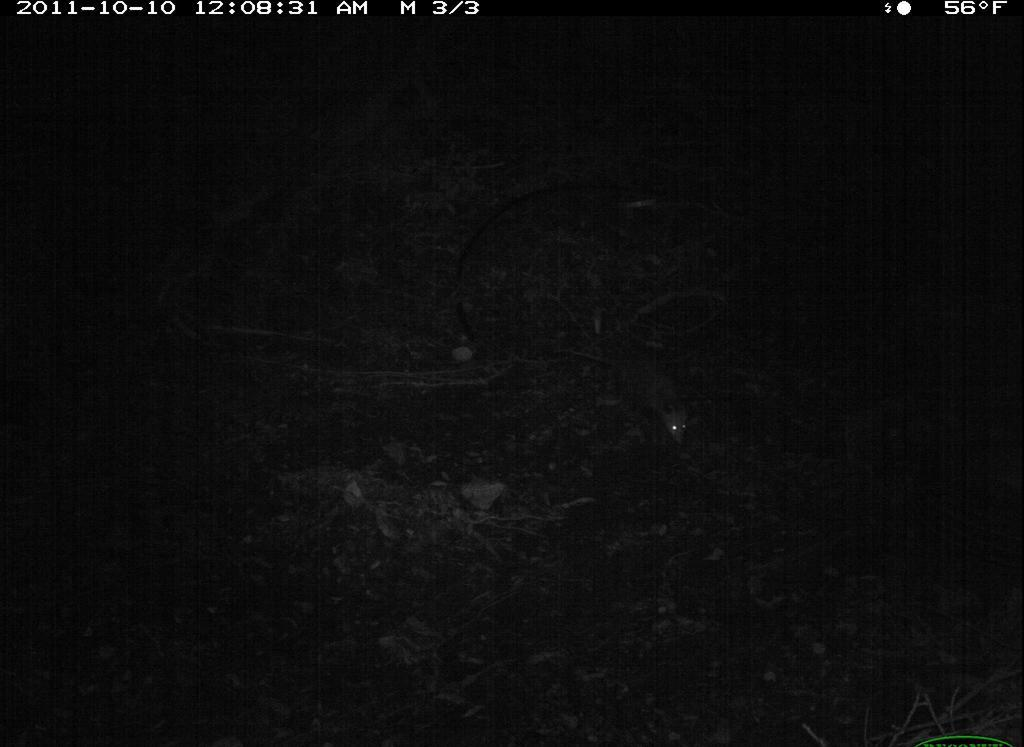opossum: (546, 336, 698, 454)
